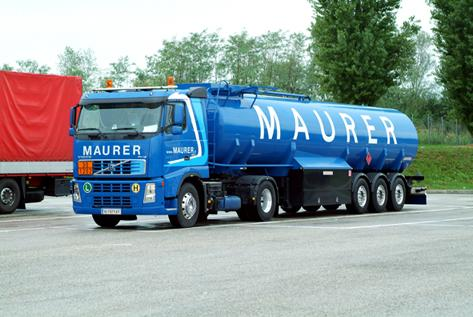truck: (68, 75, 428, 229)
